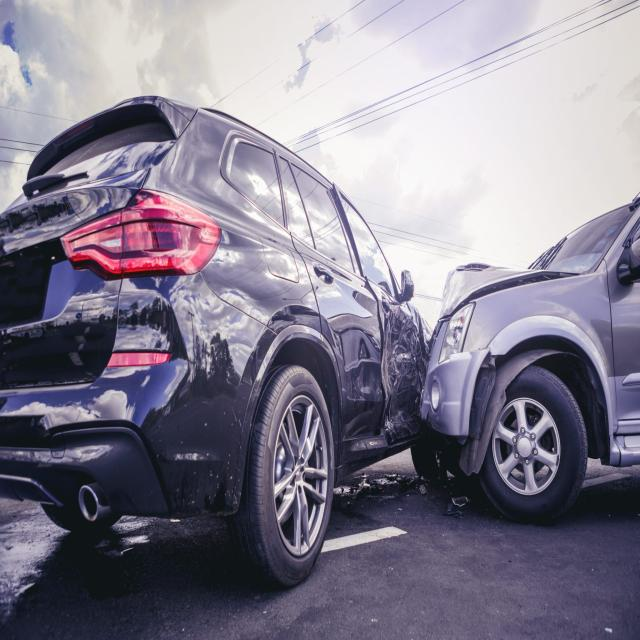Accident: (5, 55, 640, 603)
